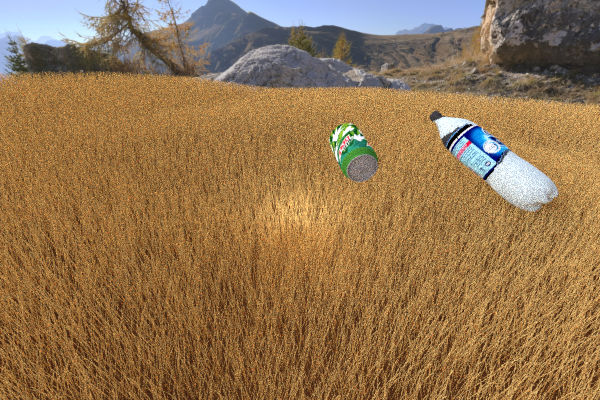bottle: (429, 110, 558, 212)
can: (329, 123, 378, 181), (204, 106, 256, 132)
